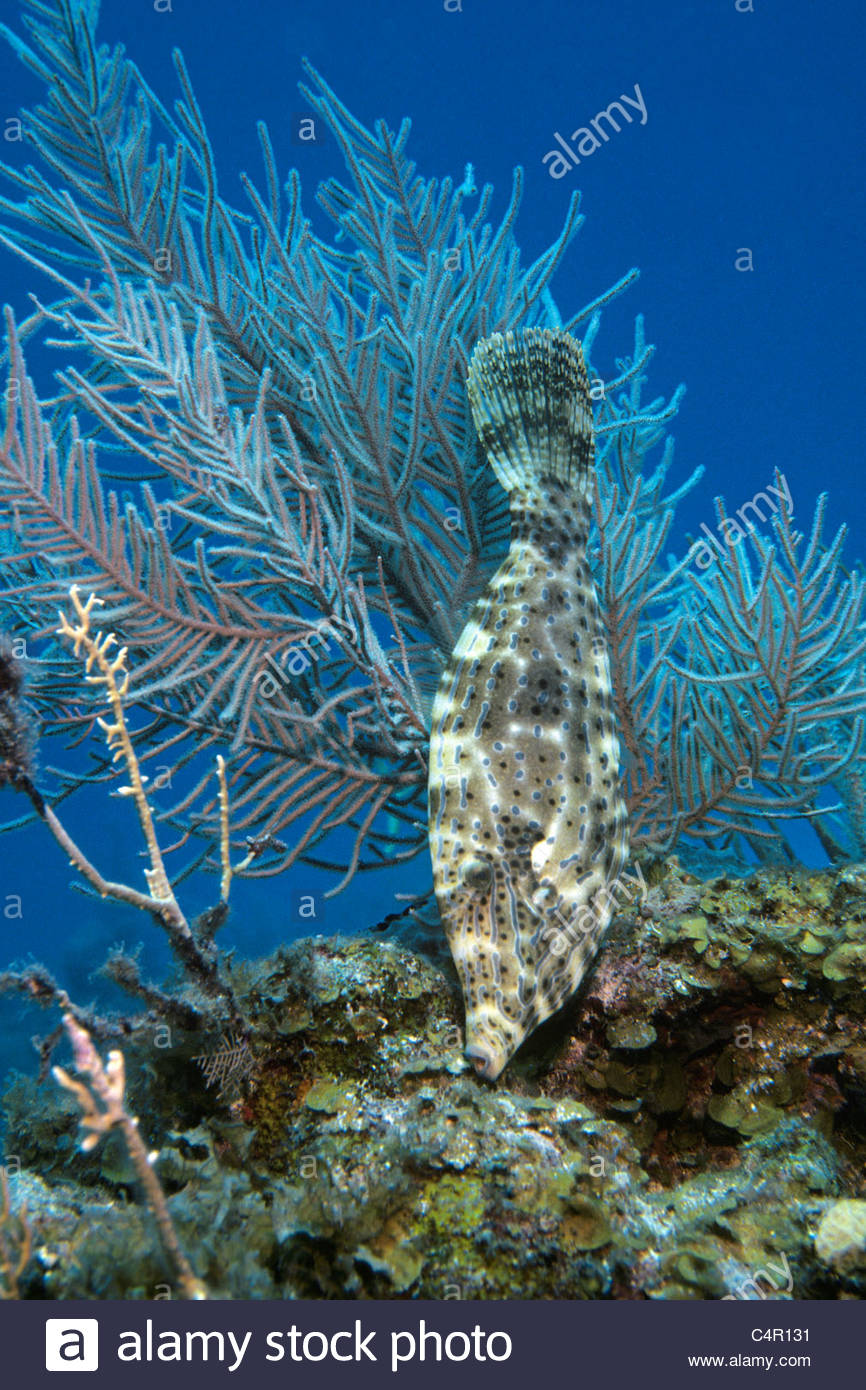Aluterus_scriptus: (424, 324, 643, 1096)
